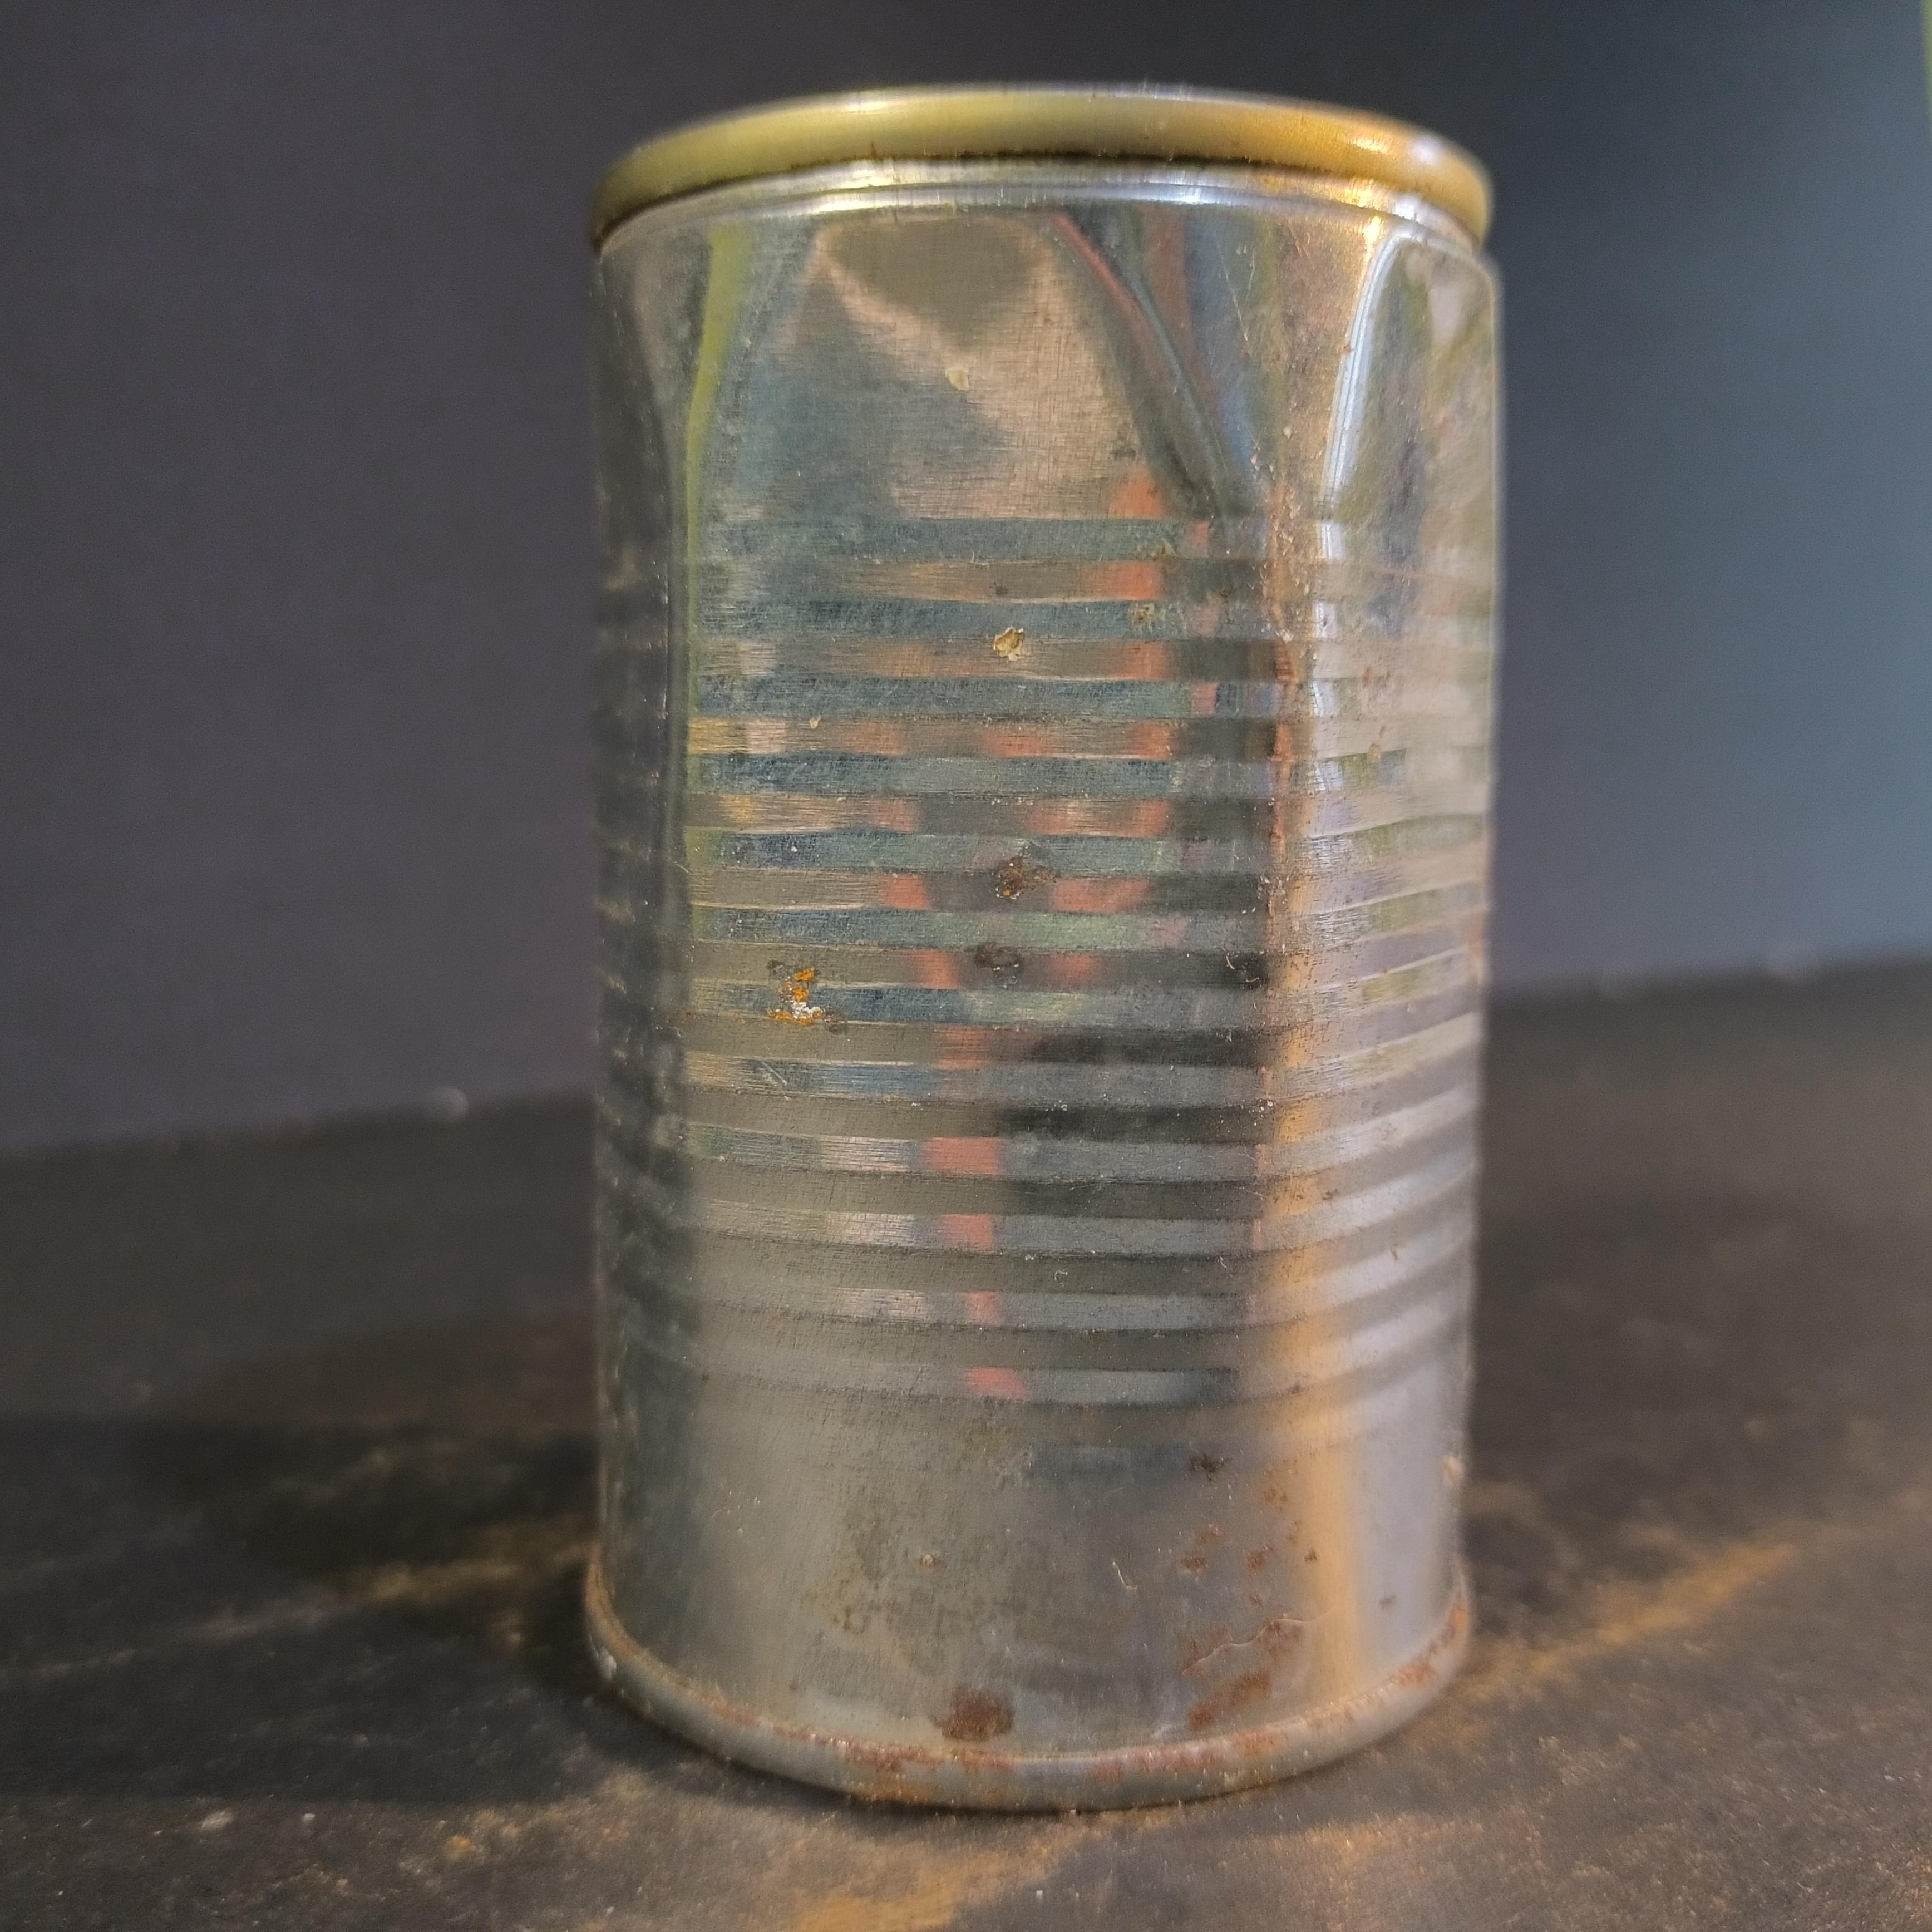Minor Defect: (580, 89, 1500, 1822)
